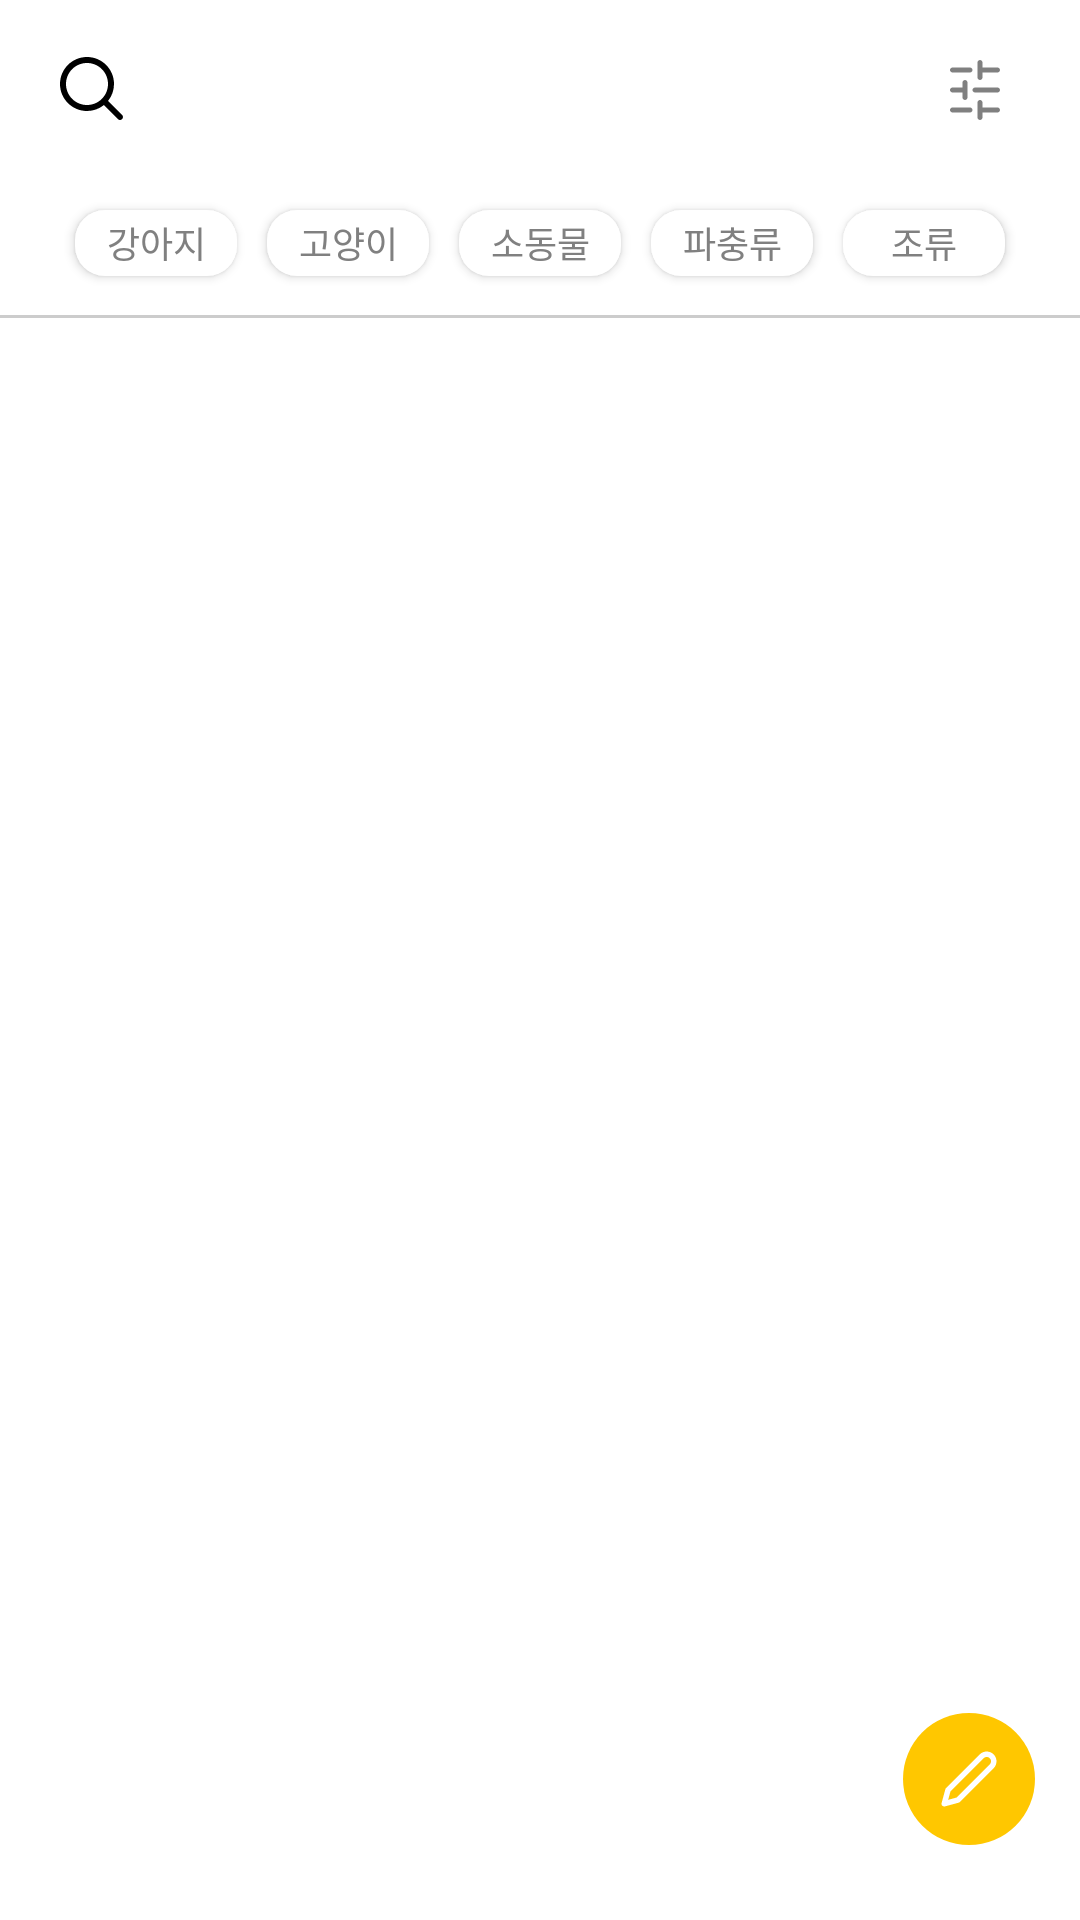

Icons on this 1080 x 1920 Android screen, each with its box as (x1, y1, x2, y2):
add post: (903, 1713, 1035, 1845)
search: (60, 57, 123, 120)
search condition: (950, 60, 1000, 120)
